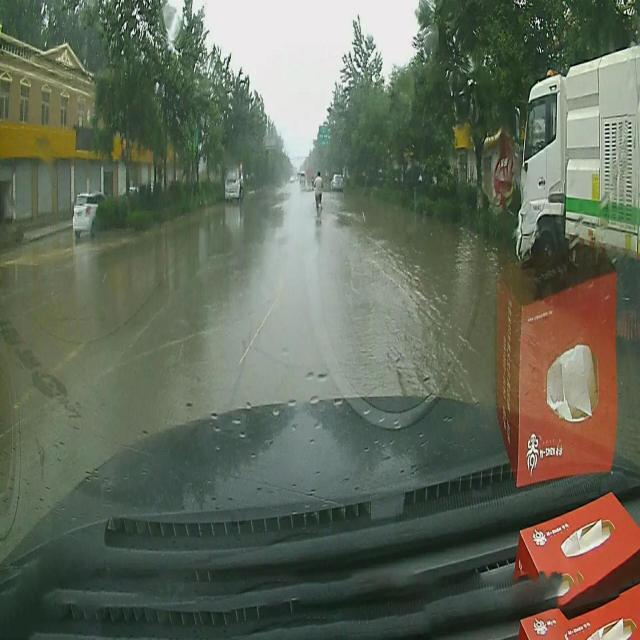car: (70, 190, 110, 237), (332, 173, 344, 191), (299, 170, 305, 183)
